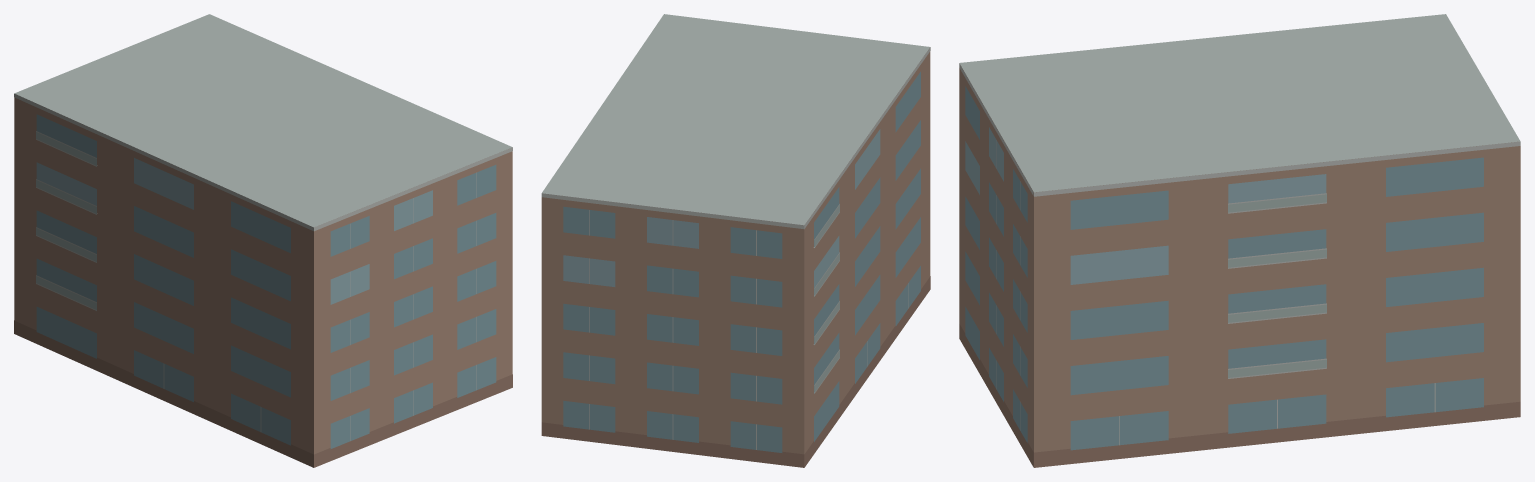
File: survey-upis-32492545.glb
The picture shows the model from 3 angles, left to right: view 1: azimuth 30°, elevation 25°; view 2: azimuth 150°, elevation 25°; view 3: azimuth 270°, elevation 25°; orthographic projection. The views are drawn at different scales.
Visible parts, largest first — view 1: survey-upis-32492545.tmp; view 2: survey-upis-32492545.tmp; view 3: survey-upis-32492545.tmp.
Boxes of the visible parts, <box> form: survey-upis-32492545.tmp: <box>14,14,512,467</box>; survey-upis-32492545.tmp: <box>541,14,930,467</box>; survey-upis-32492545.tmp: <box>959,14,1520,467</box>.
Size of the model in its own units: 20.97 by 15.1 by 27.89.
